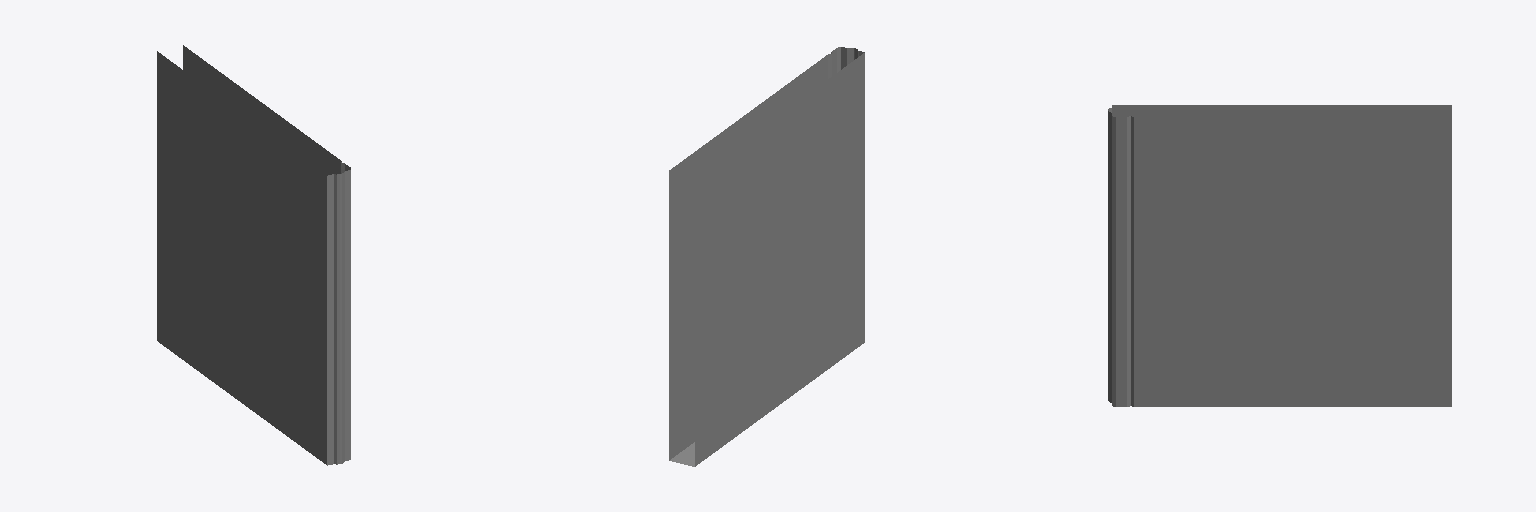
The model's file is cpz_obj_shutter.obj.
3 views of the same model, side by side, from view 1: azimuth 30°, elevation 25°; view 2: azimuth 150°, elevation 25°; view 3: azimuth 270°, elevation 25° (orthographic).
Visible parts, largest first — view 1: cpz_metal_yy1_belt_cmn_dpn, ccp_metal_yy_floor2_Lumi_dpnE, ccp_metal_yy_lblueright_Cmn_dpn; view 2: cpz_metal_yy1_belt_cmn_dpn, ccp_metal_yy_floor2_Lumi_dpnE, ccp_metal_yy_lblueright_Cmn_dpn; view 3: cpz_metal_yy1_belt_cmn_dpn, ccp_metal_yy_floor2_Lumi_dpnE.
Boxes of the visible parts, box(x1,y1,x2,y2) form: cpz_metal_yy1_belt_cmn_dpn: box(184, 65, 350, 464); ccp_metal_yy_floor2_Lumi_dpnE: box(157, 45, 209, 359); ccp_metal_yy_lblueright_Cmn_dpn: box(318, 169, 333, 465); cpz_metal_yy1_belt_cmn_dpn: box(678, 47, 858, 464); ccp_metal_yy_floor2_Lumi_dpnE: box(669, 151, 721, 466); ccp_metal_yy_lblueright_Cmn_dpn: box(856, 51, 864, 348); cpz_metal_yy1_belt_cmn_dpn: box(1108, 105, 1397, 406); ccp_metal_yy_floor2_Lumi_dpnE: box(1398, 105, 1451, 406).
Bounding box in the file's own units: 26.39 × 285 × 306.